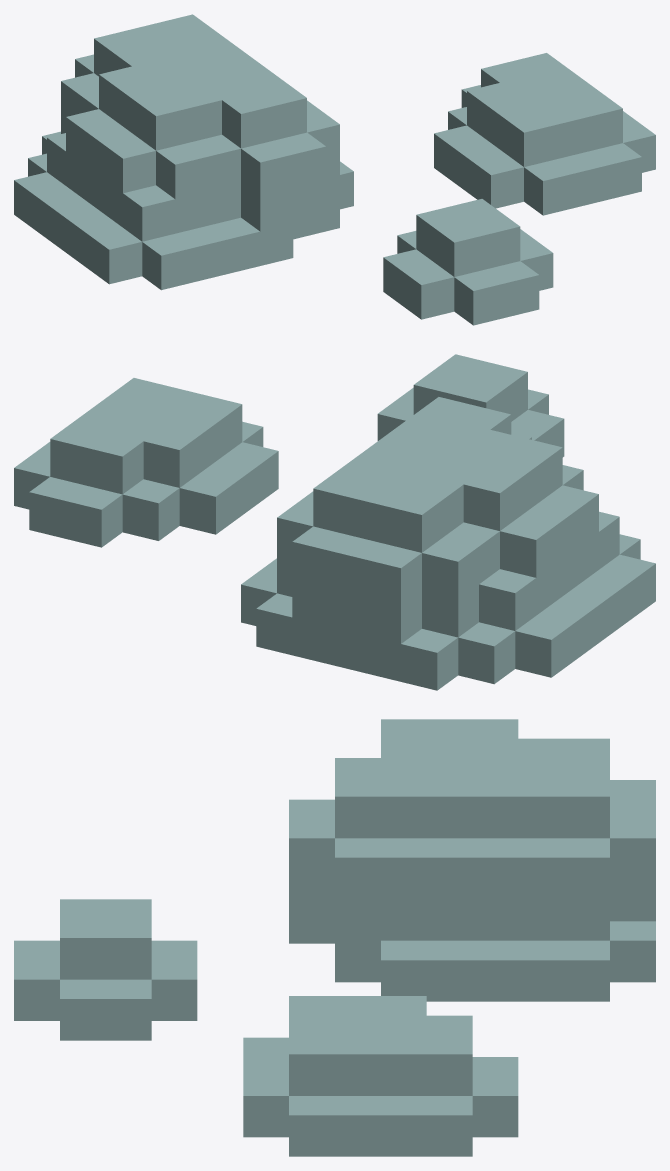
The model's file is Rock6.obj.
The picture shows the model from 3 angles, top to bottom: view 1: azimuth 30°, elevation 25°; view 2: azimuth 150°, elevation 25°; view 3: azimuth 270°, elevation 25°; orthographic projection. The views are drawn at different scales.
Visible parts, largest first — view 1: Rock6; view 2: Rock6; view 3: Rock6.
Part boxes in pixels (x1,y1,x2,y2): Rock6: (14,14,655,325); Rock6: (14,354,655,690); Rock6: (14,719,655,1156).
Bounding box in the file's own units: 16 × 4 × 14.
Materials: 1 (1 with a texture image).
